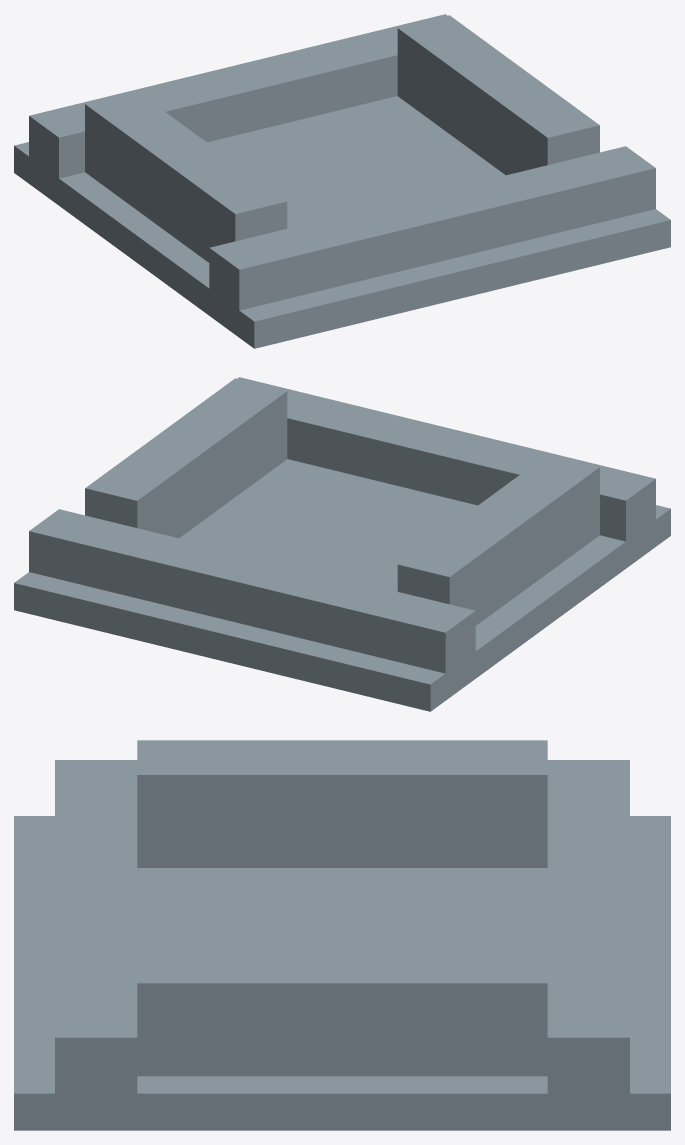
The model's file is ceiling-strip.glb.
3 views of the same model, one above another, from view 1: azimuth 30°, elevation 25°; view 2: azimuth 150°, elevation 25°; view 3: azimuth 270°, elevation 25° (orthographic). The views are drawn at different scales.
Parts seen in each view (by area): view 1: ceiling-strip; view 2: ceiling-strip; view 3: ceiling-strip.
Boxes of the visible parts, box(x1,y1,x2,y2) form: ceiling-strip: box(14, 14, 670, 348); ceiling-strip: box(14, 377, 670, 711); ceiling-strip: box(14, 740, 670, 1130).
Size of the model in its own units: 2 by 0.4375 by 2.
